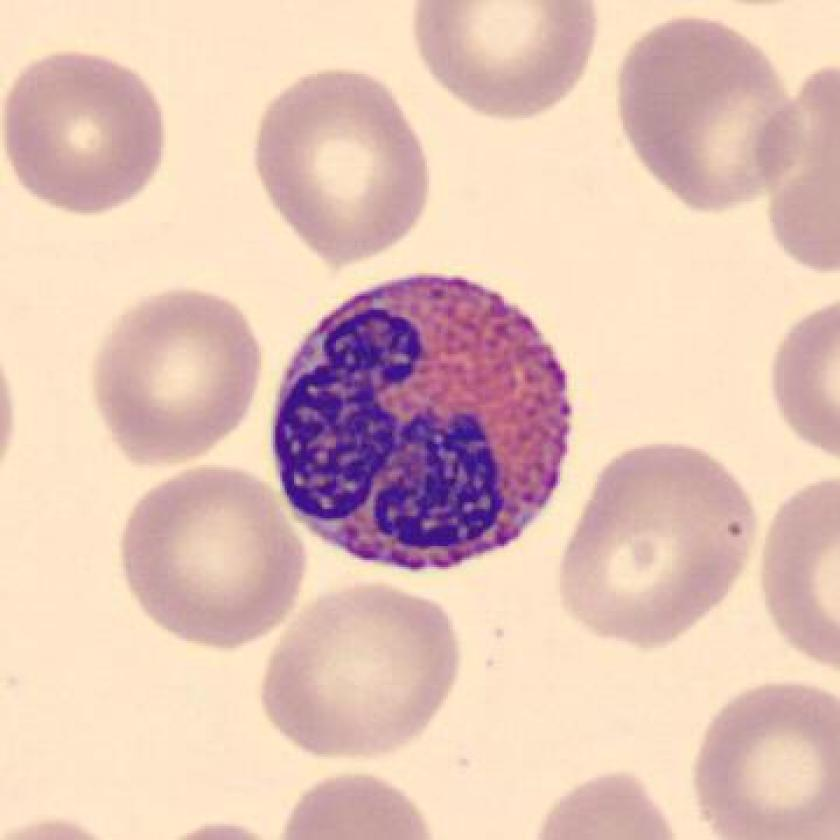eosinophil: (262, 267, 587, 582)
